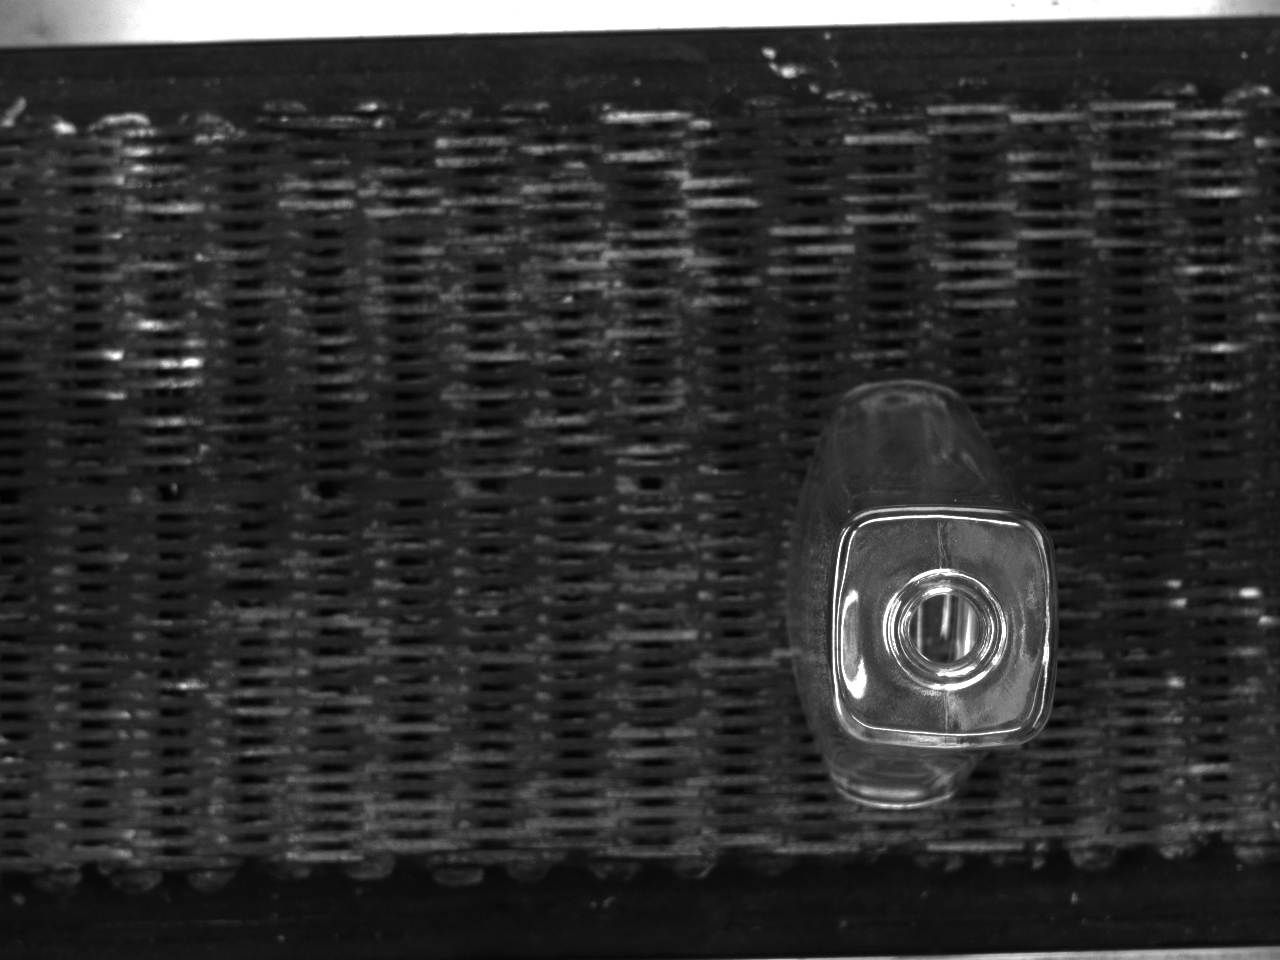bottleneck: (887, 568, 1007, 688)
